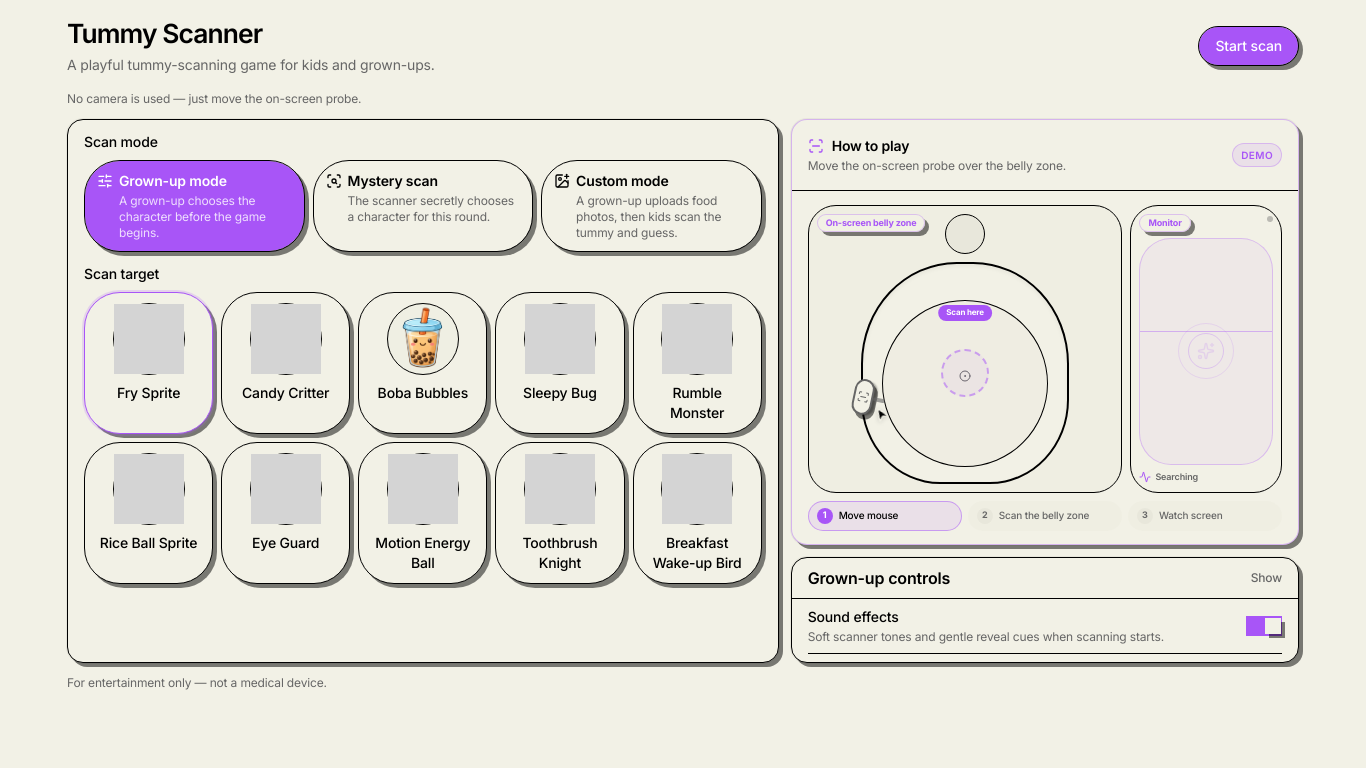
Test: DuduScannerApp controls › cancels a reveal with X and shows no signal
Click the button "Start scan" at (1249, 46), box [1198,26,1299,66]
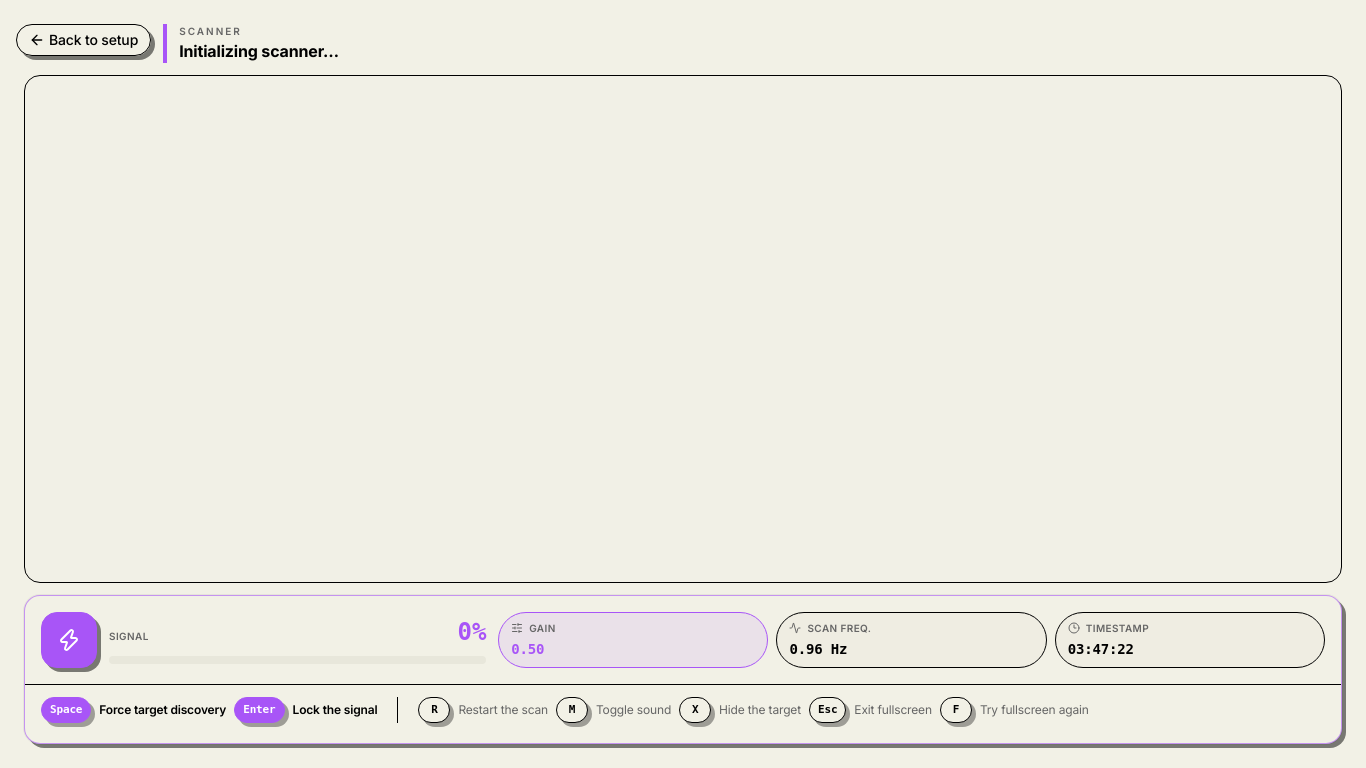
Expected: the element with test id "dudu-scanner-scan-view" is shown
Press Space
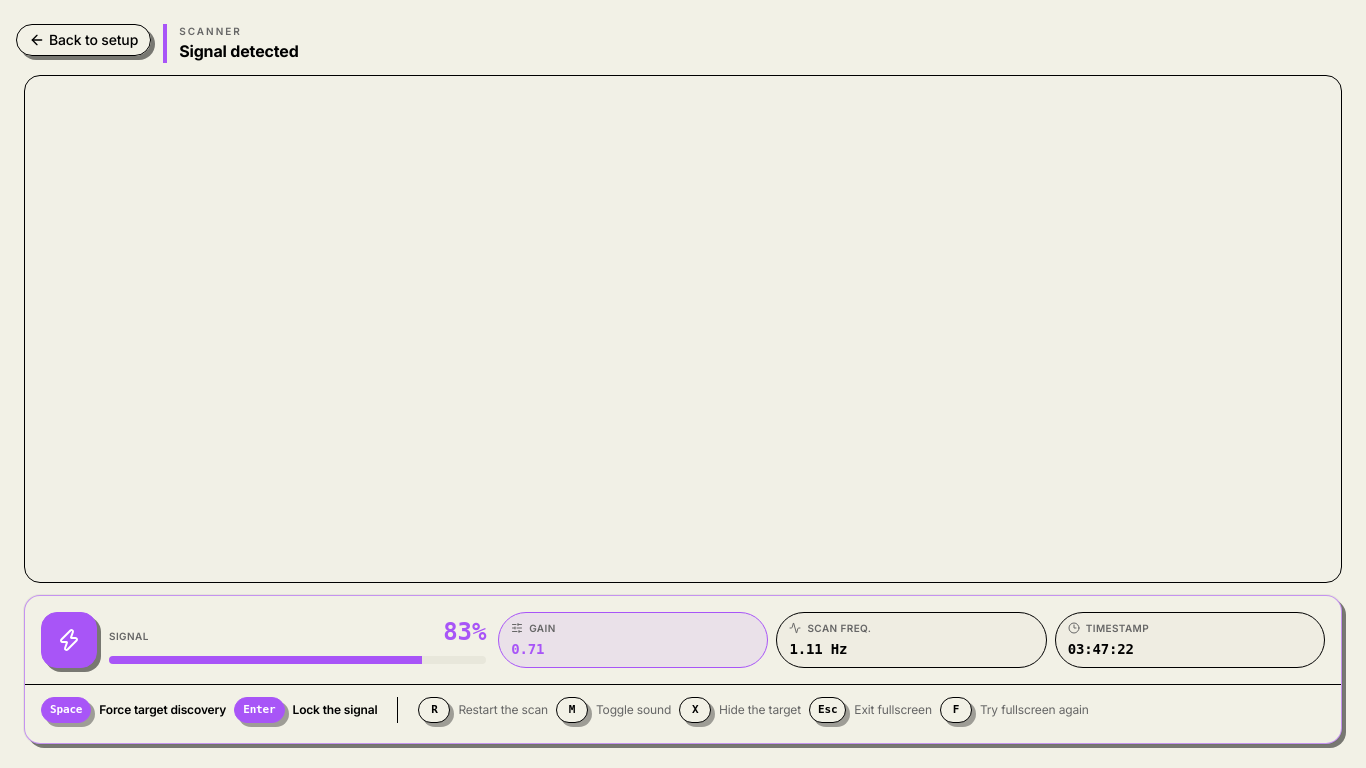
Expected: the text with test id "dudu-scanner-status" reads "Signal detected", [179,41,299,61]
Press x
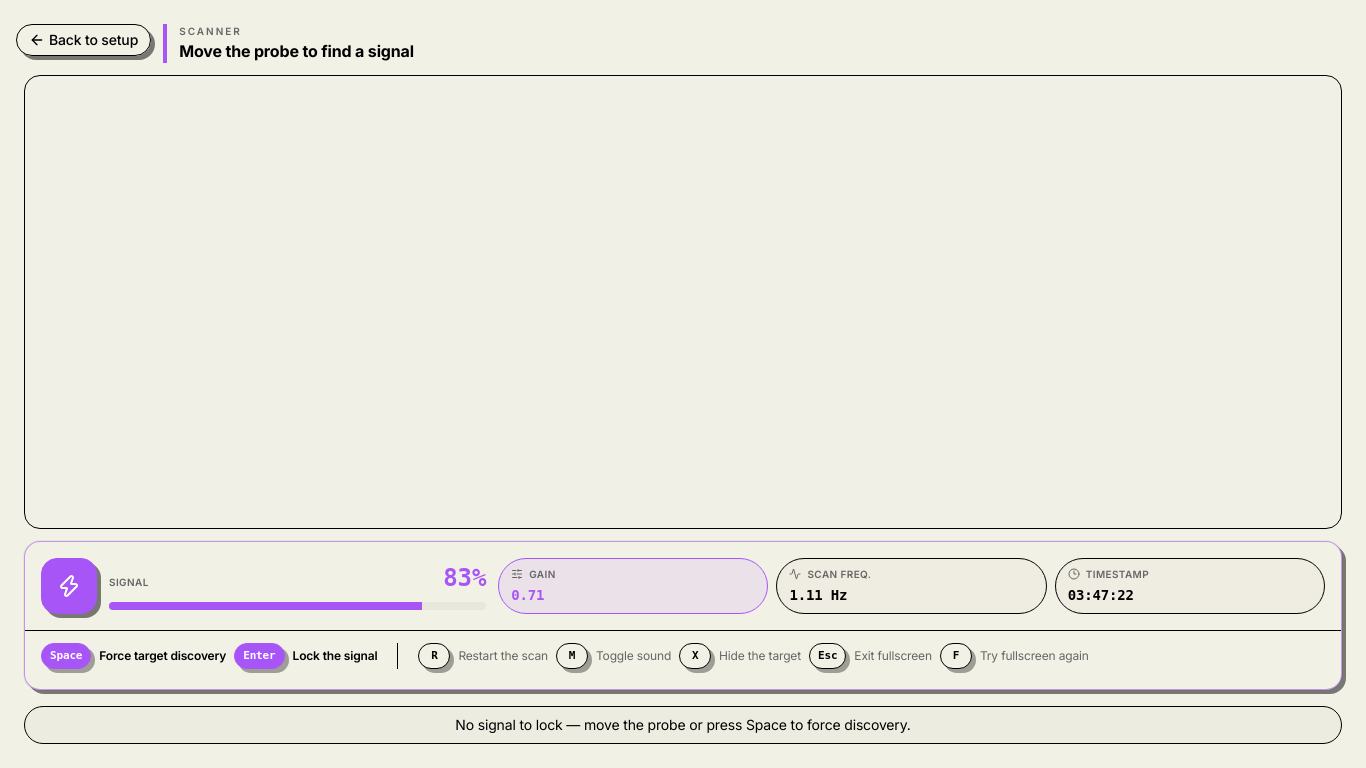
Expected: the element with test id "dudu-scanner-fan-stage" is shown, [24,75,1342,529]
Expected: the message with test id "dudu-scanner-transient" shows "No signal to lock", [455,716,911,733]
